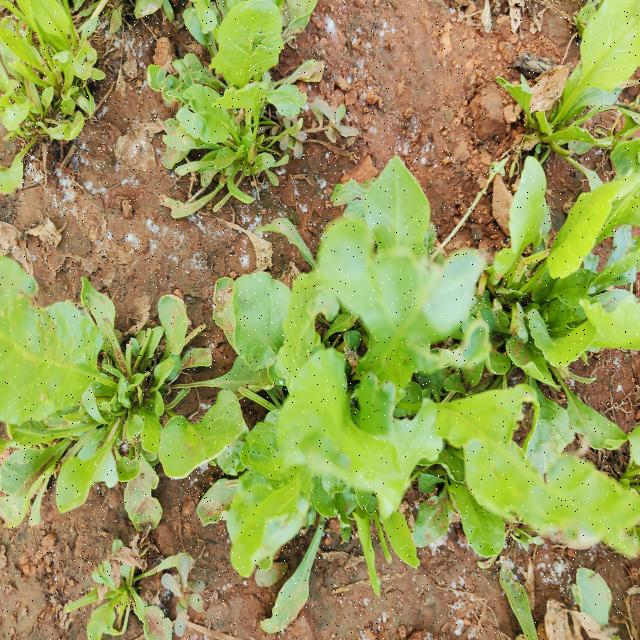leaves: (261, 372, 439, 541), (347, 241, 518, 414), (1, 273, 140, 431), (342, 134, 482, 289), (428, 375, 564, 483), (537, 169, 640, 311), (156, 392, 247, 504), (201, 2, 286, 113), (225, 272, 299, 382), (209, 77, 289, 178), (502, 147, 568, 267), (570, 275, 637, 364), (518, 307, 595, 376)
